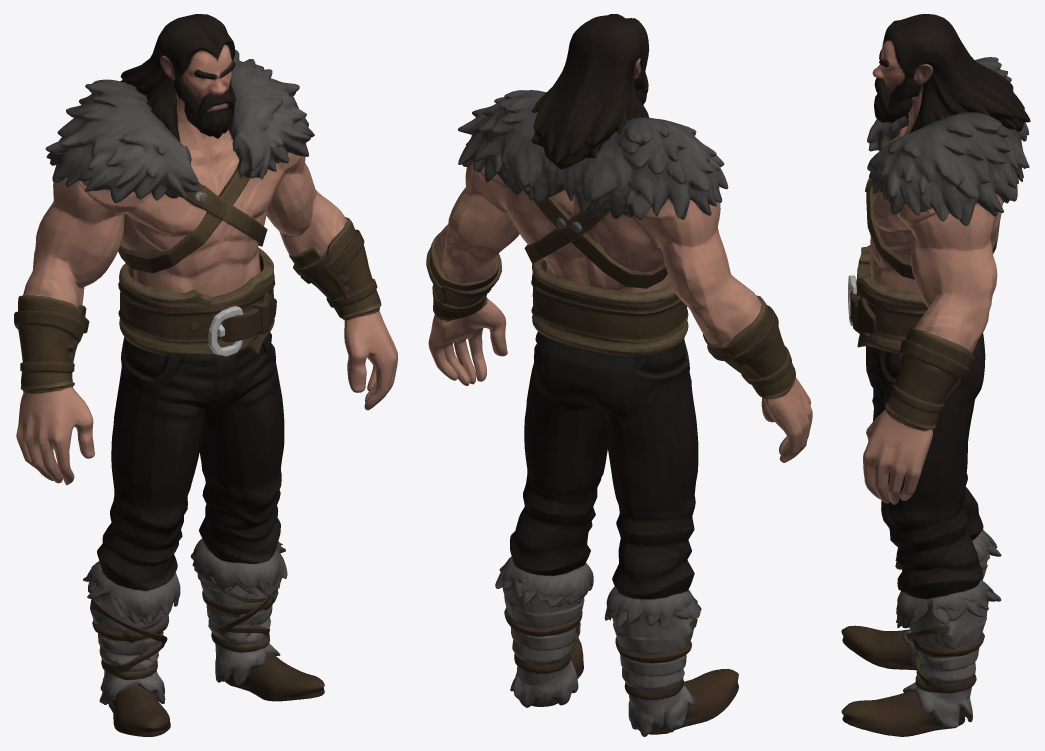
The model's file is gorvek.glb.
The picture shows the model from 3 angles, left to right: view 1: azimuth 30°, elevation 25°; view 2: azimuth 150°, elevation 25°; view 3: azimuth 270°, elevation 25°; orthographic projection.
Visible parts, largest first — view 1: world; view 2: world; view 3: world.
Part boxes in pixels (x1,y1,x2,y2): world: (14, 14, 397, 736); world: (426, 14, 812, 736); world: (841, 14, 1030, 736).
Bounding box in the file's own units: 0.5679 × 0.9946 × 0.2531.
1 material, 1 textured.
